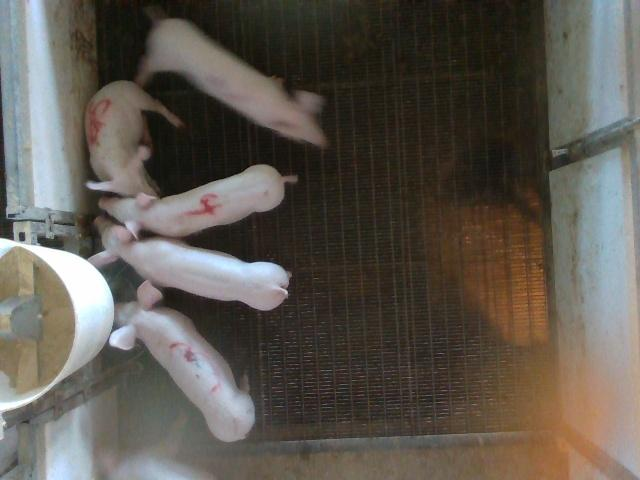pig-2: (135, 19, 328, 147)
pig-3: (110, 281, 255, 441)
pig-4: (100, 165, 290, 237)
pig-5: (85, 81, 182, 197)
